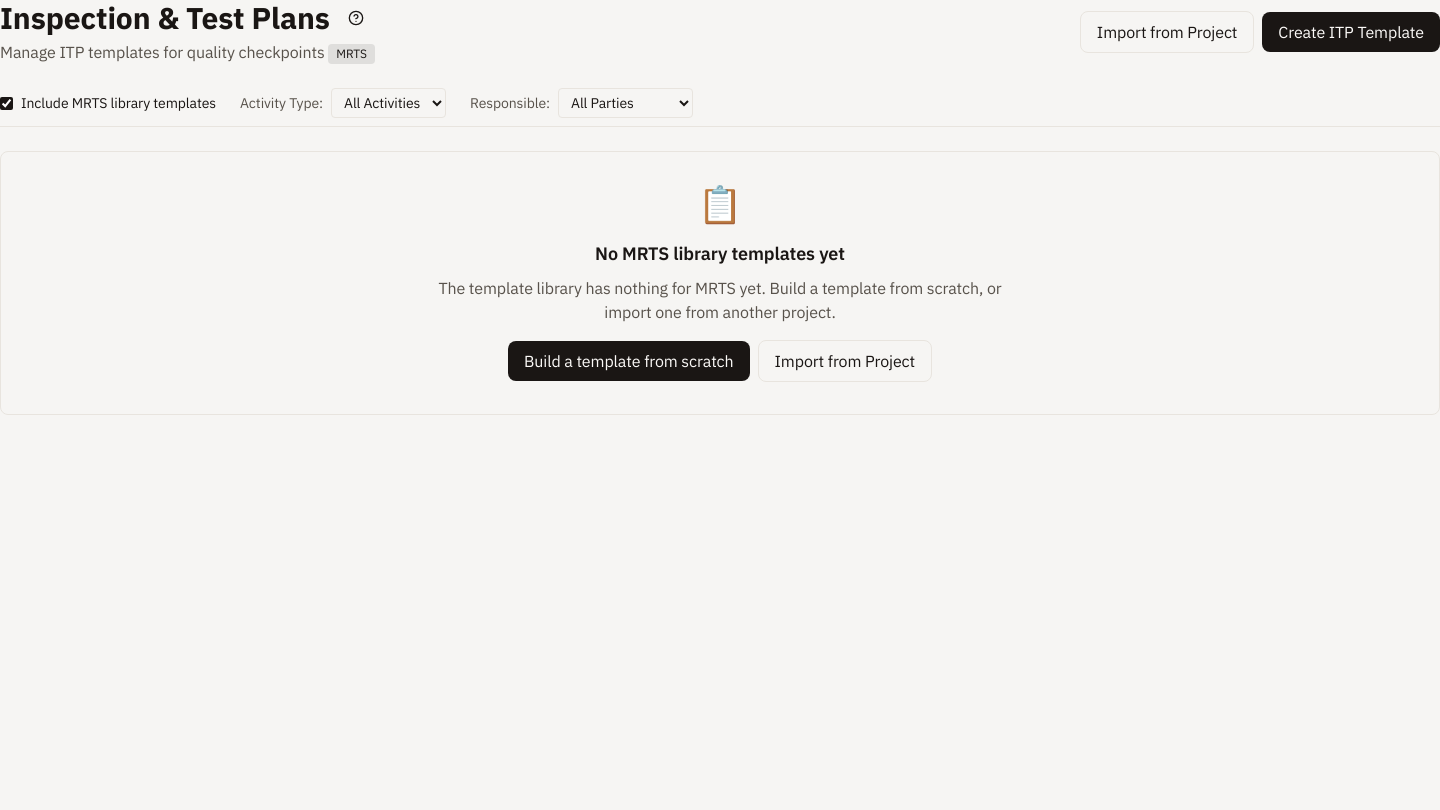
it: ITPPage empty state leads with the spec library › shows honest guidance when the library has nothing for the project spec set
Expected: the heading "No MRTS library templates yet" is shown, [595, 242, 845, 265]
Expected: the text "The template library has nothing for MRTS yet" is shown, [432, 276, 1008, 324]
Build from scratch still works as the fallback.
Click the button "Build a template from scratch". click: (629, 361)
box: [508, 341, 750, 381]
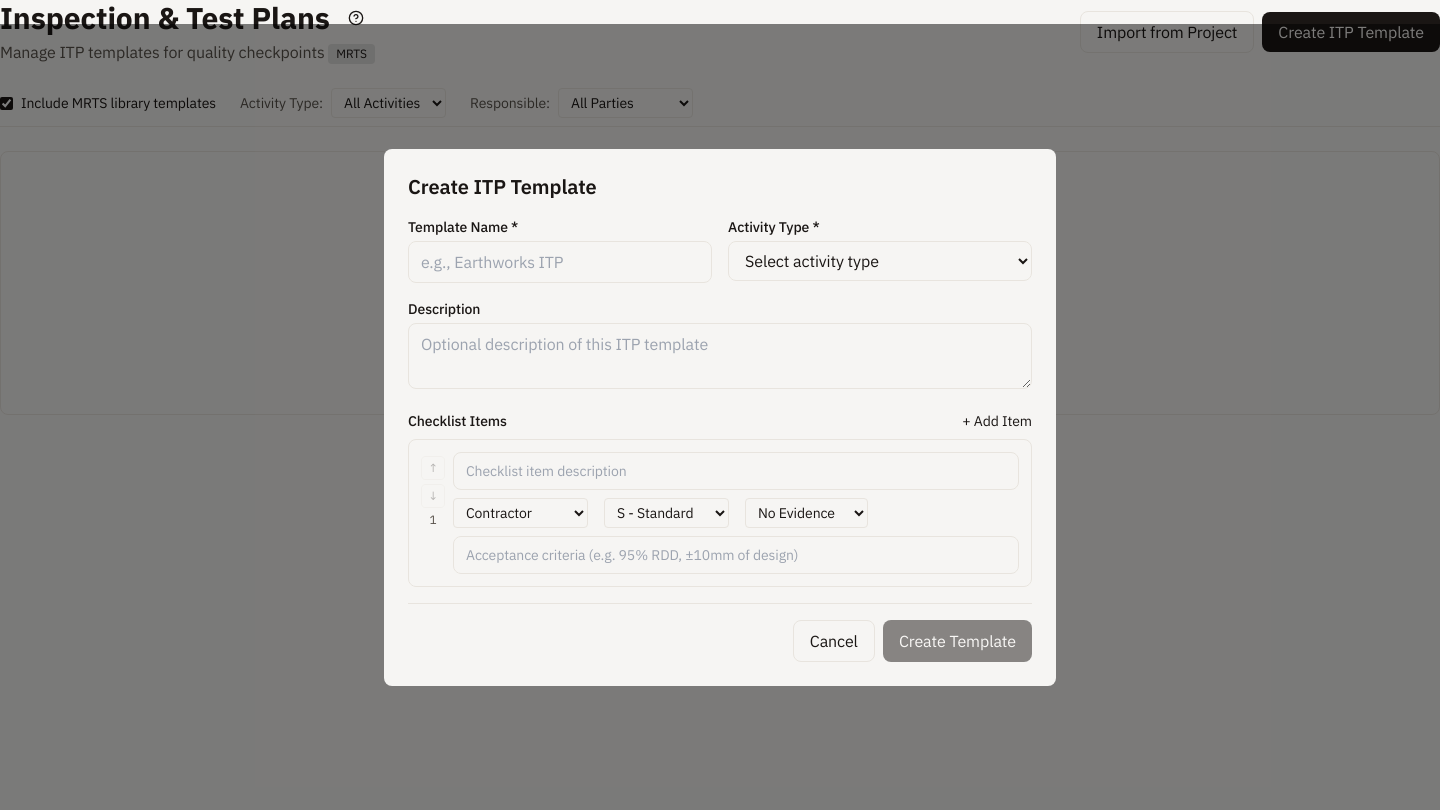
Now the heading "Create ITP Template" is shown, box [408, 172, 597, 200]
